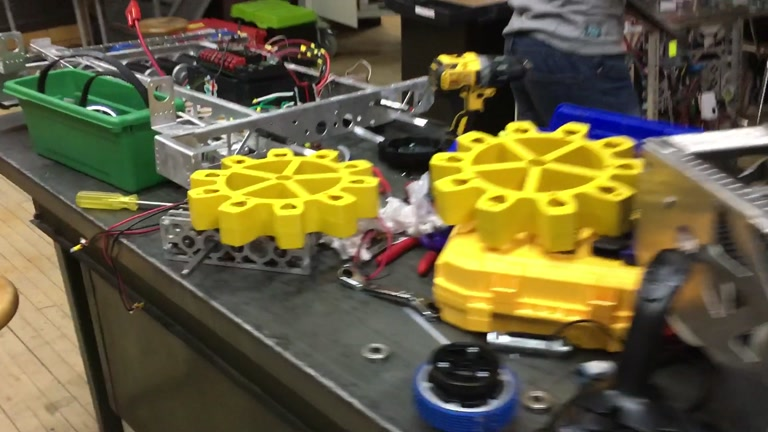gear: (429, 119, 648, 252), (186, 148, 381, 250)
